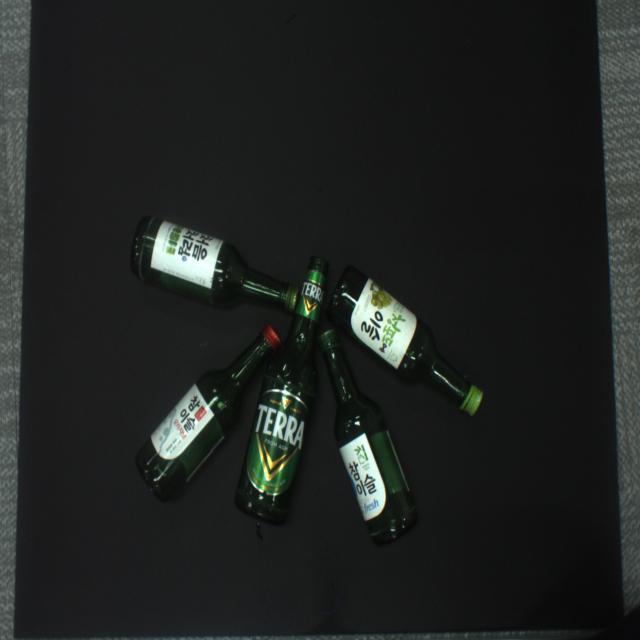beer-bottle: (234, 257, 330, 523)
soju-bottle: (135, 322, 281, 500), (327, 266, 483, 415), (316, 328, 418, 544), (130, 216, 299, 314)
